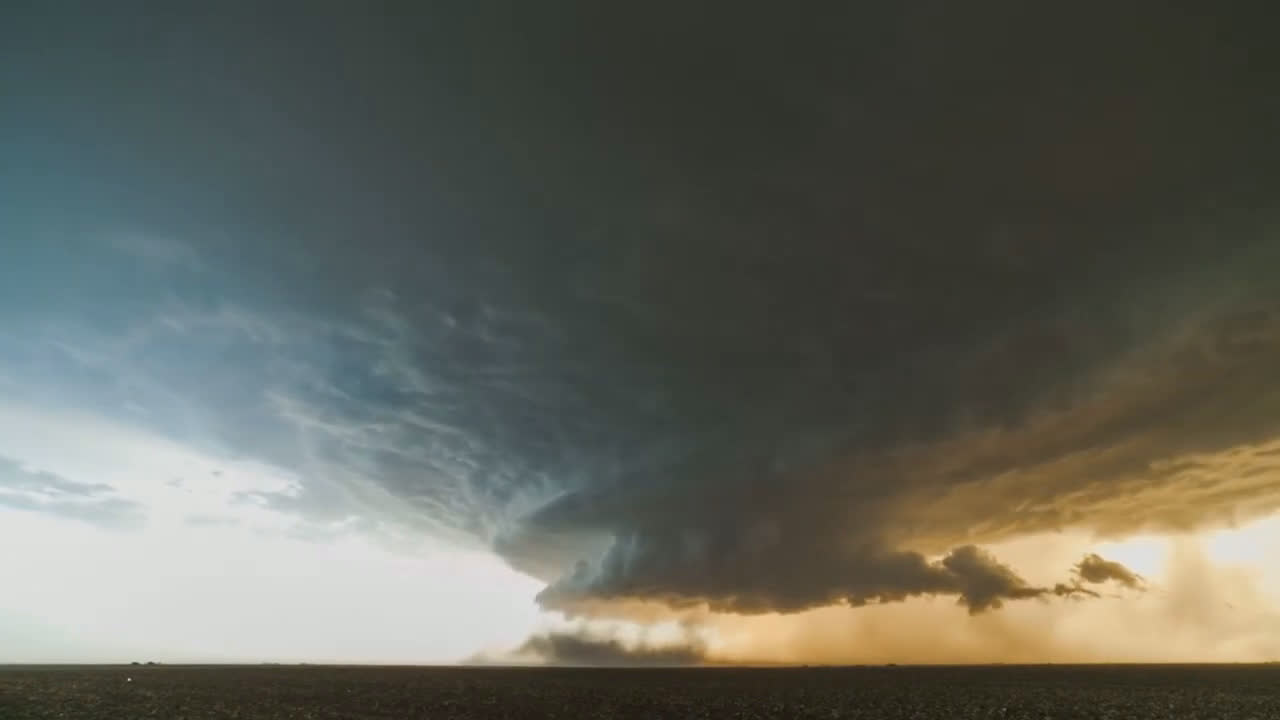FFD: (937, 515, 1280, 667)
RFD: (467, 603, 1078, 663)
mesocyclone: (261, 215, 1280, 569)
striations: (486, 484, 687, 588)
wall cloud: (534, 531, 1147, 624)
